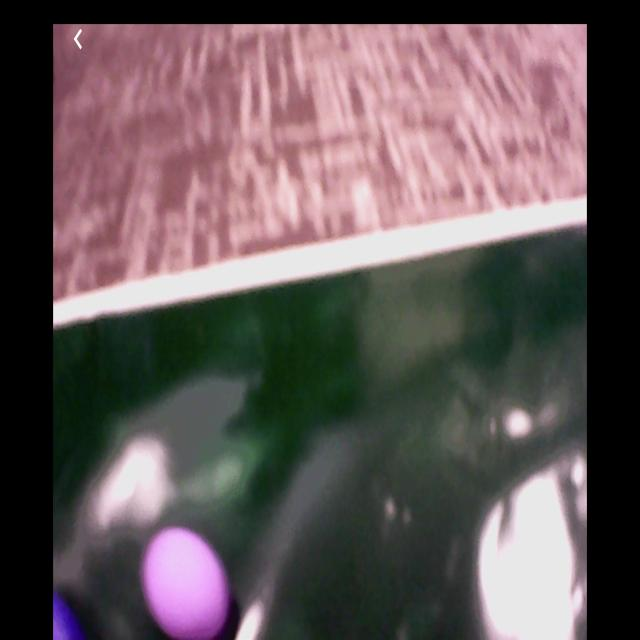ball: (141, 528, 227, 640), (54, 594, 81, 640)
